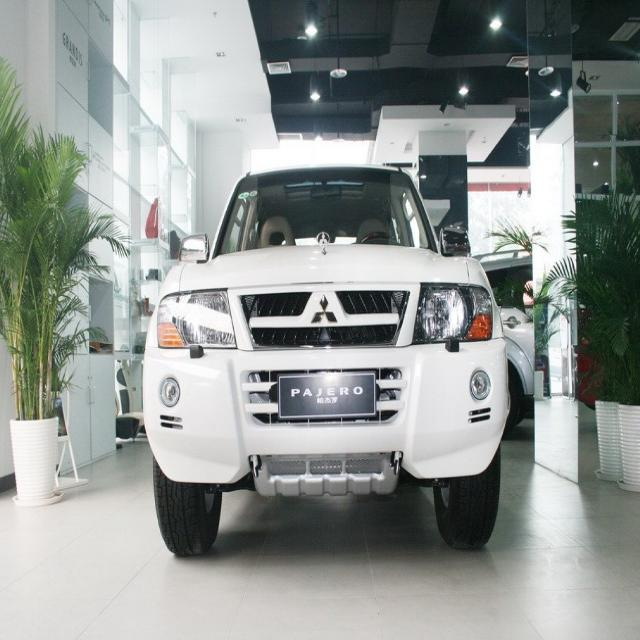front_bumper: (140, 335, 513, 490)
front_glass: (207, 172, 434, 260)
front_left_side_light: (409, 281, 497, 349)
front_left_side_mirror: (434, 224, 472, 258)
front_right_side_light: (157, 288, 238, 353)
front_right_side_mirror: (176, 230, 212, 263)
wheel: (153, 454, 225, 560), (433, 446, 502, 550)
